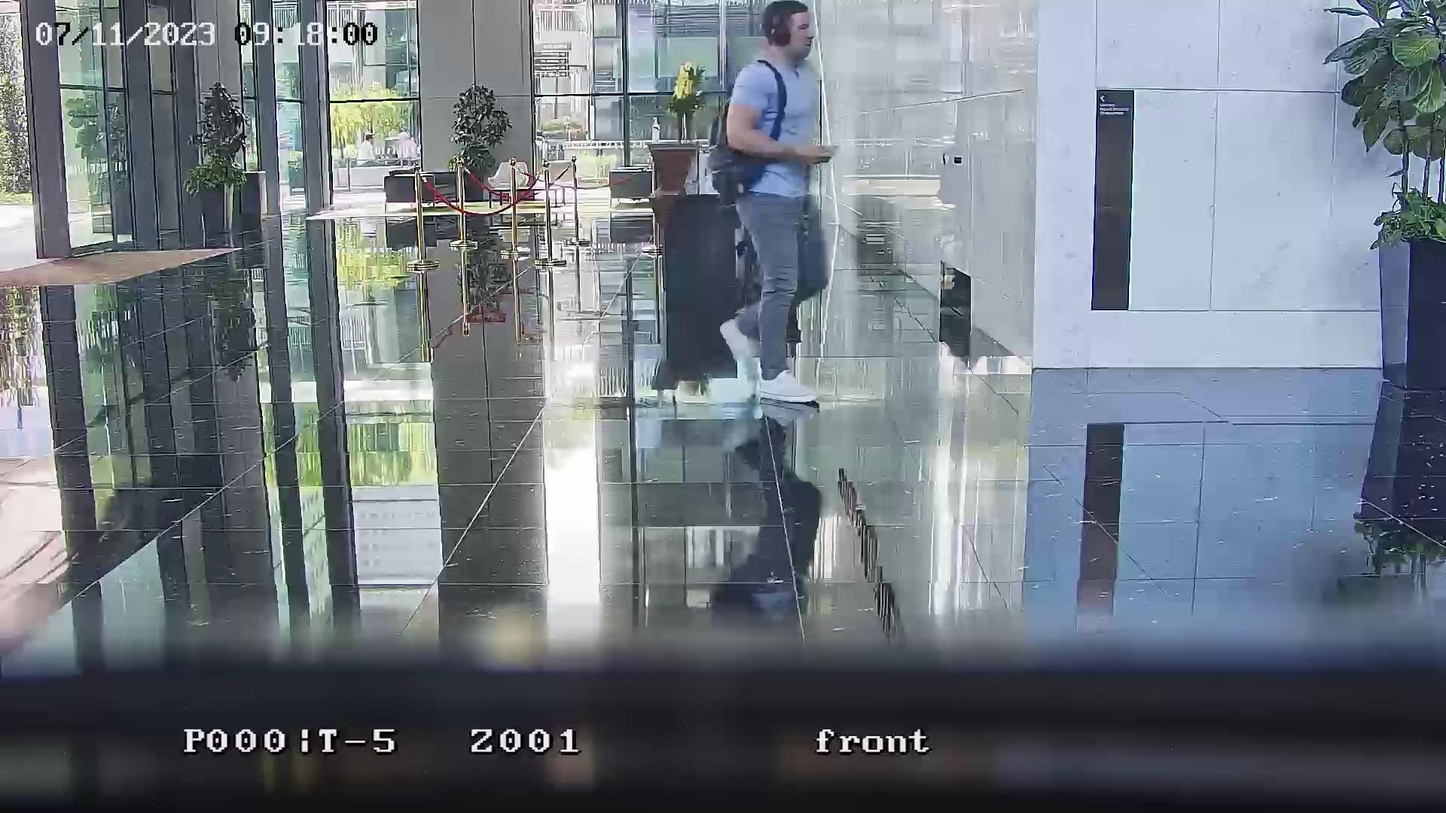person: (725, 1, 837, 413)
